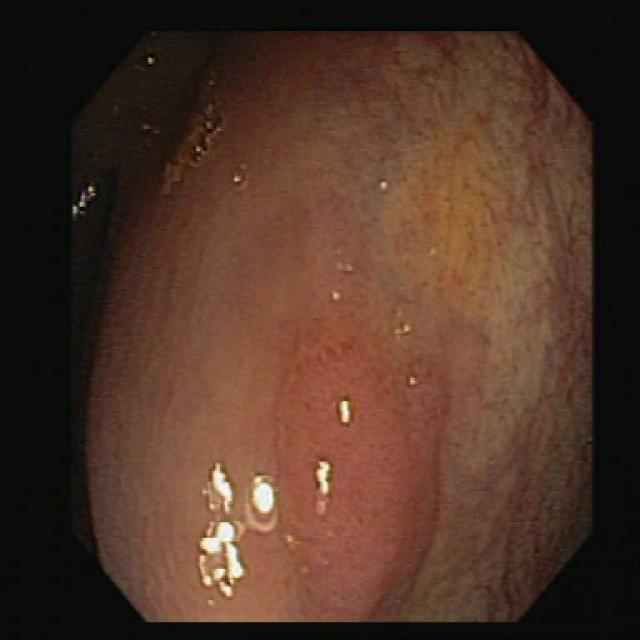tumor: (278, 311, 447, 620)
